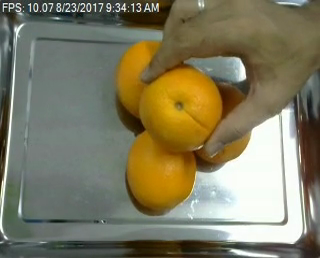Orange: (140, 67, 222, 151), (125, 128, 197, 211)
